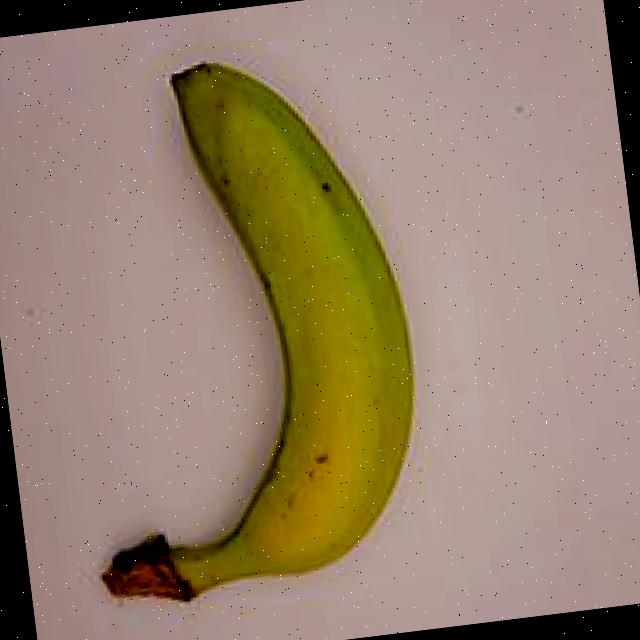Unripe: (1, 24, 502, 626)
